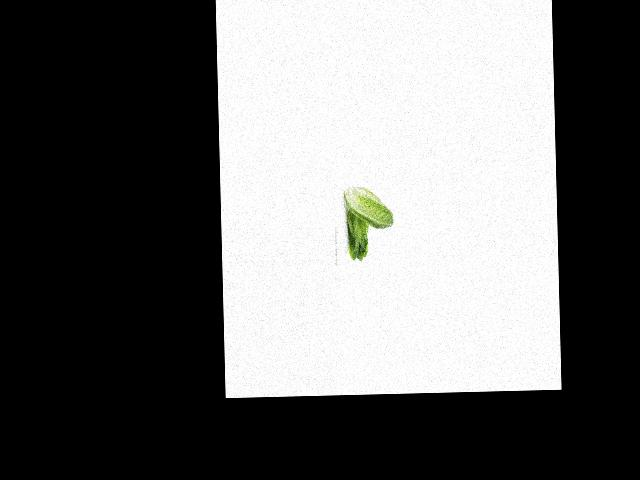lettuce: (340, 209, 374, 261)
